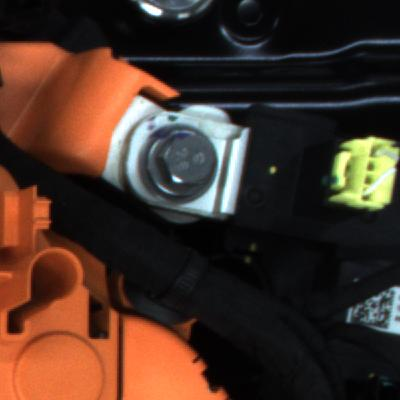nut_b: (137, 121, 227, 205)
